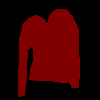maglia: (17, 8, 80, 96)
